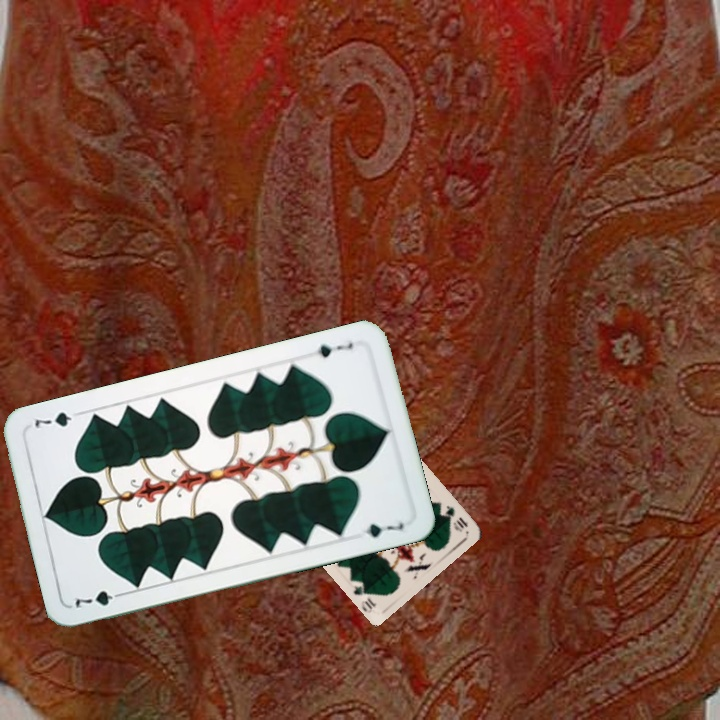G10: (439, 501, 471, 535)
G7: (70, 586, 128, 611), (313, 338, 355, 361)
